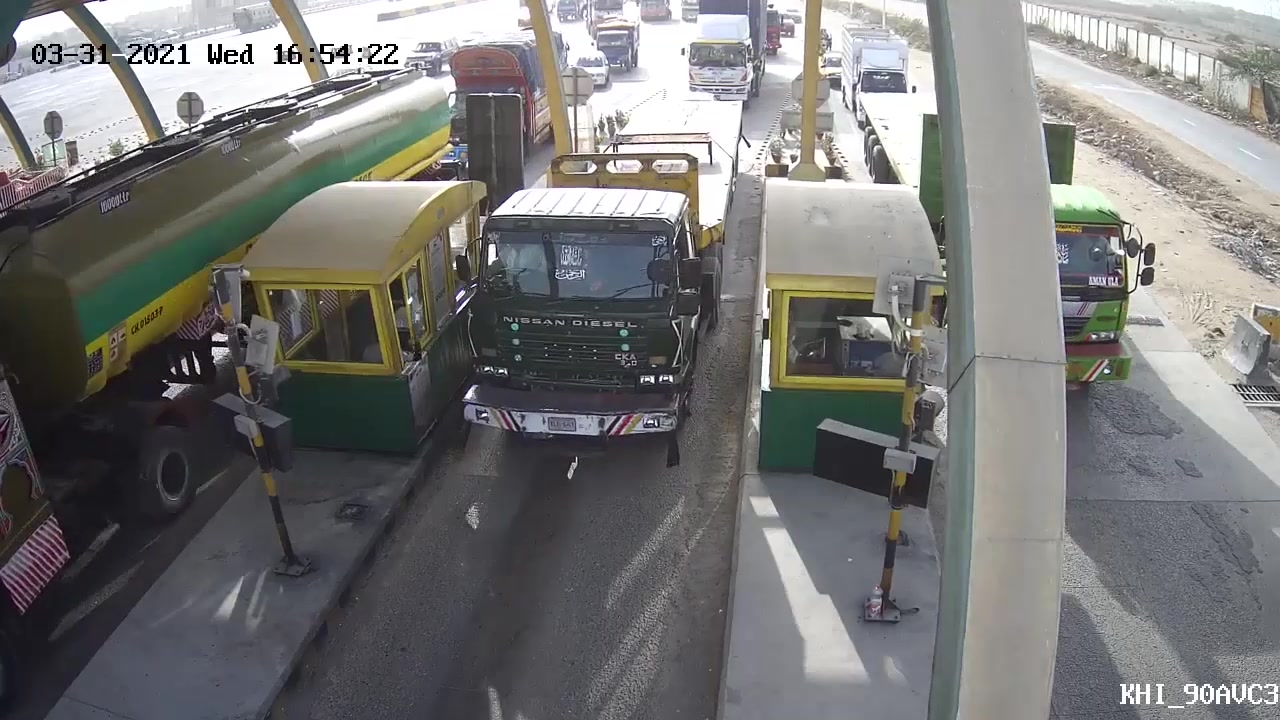F6: (459, 96, 752, 453)
